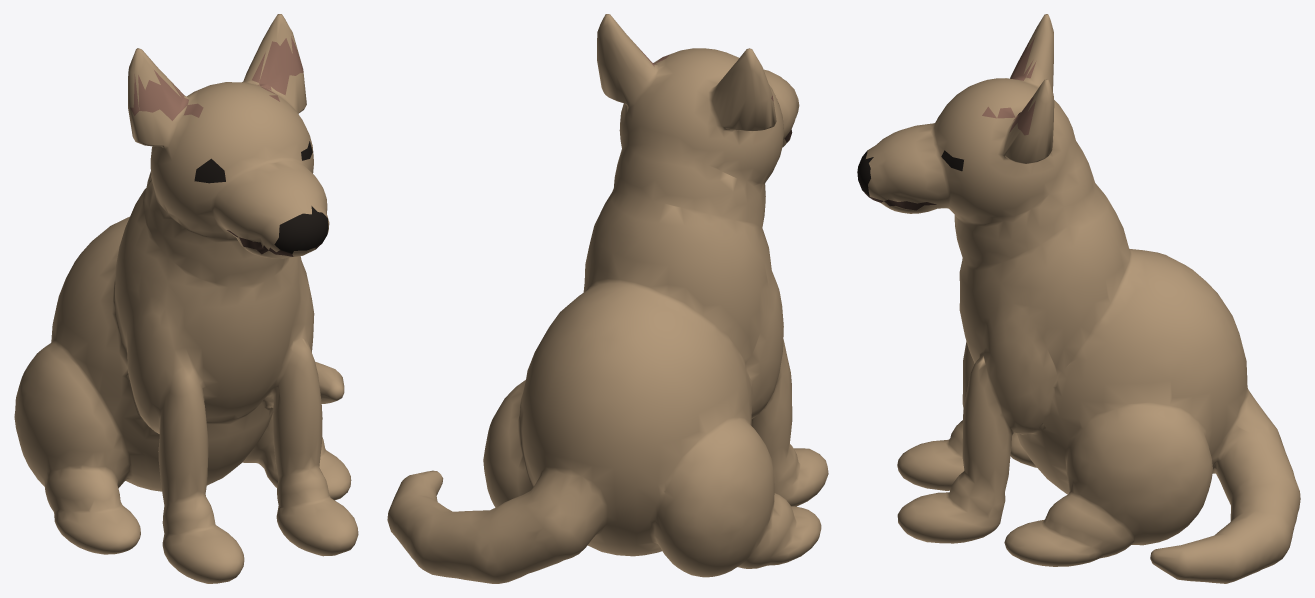
File: A-NEW-20261027-DOG-001_LOD2_R2.glb
3 renders of one model, left to right at view 1: azimuth 30°, elevation 25°; view 2: azimuth 150°, elevation 25°; view 3: azimuth 270°, elevation 25°, orthographic. The views are drawn at different scales.
Visible parts, largest first — view 1: original seated dog whole continuous skin; view 2: original seated dog whole continuous skin; view 3: original seated dog whole continuous skin.
Part boxes in pixels (box(x1,y1,x2,y2)): original seated dog whole continuous skin: box(14, 14, 358, 583); original seated dog whole continuous skin: box(387, 14, 828, 583); original seated dog whole continuous skin: box(857, 14, 1300, 583).
Bounding box in the file's own units: 0.7268 × 0.9971 × 0.8597.
